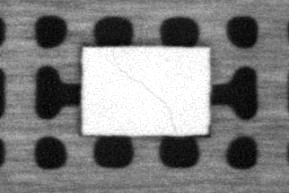DIE_CRACK: (105, 59, 176, 128)
